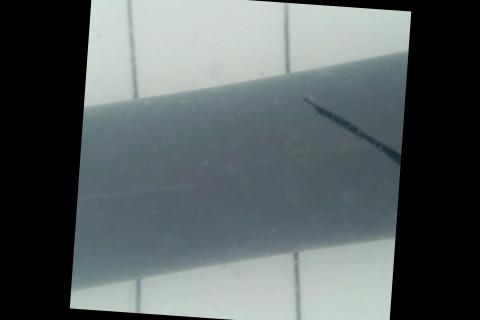keretakan: (293, 96, 404, 187)
